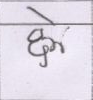e_matra: (27, 6, 55, 22)
